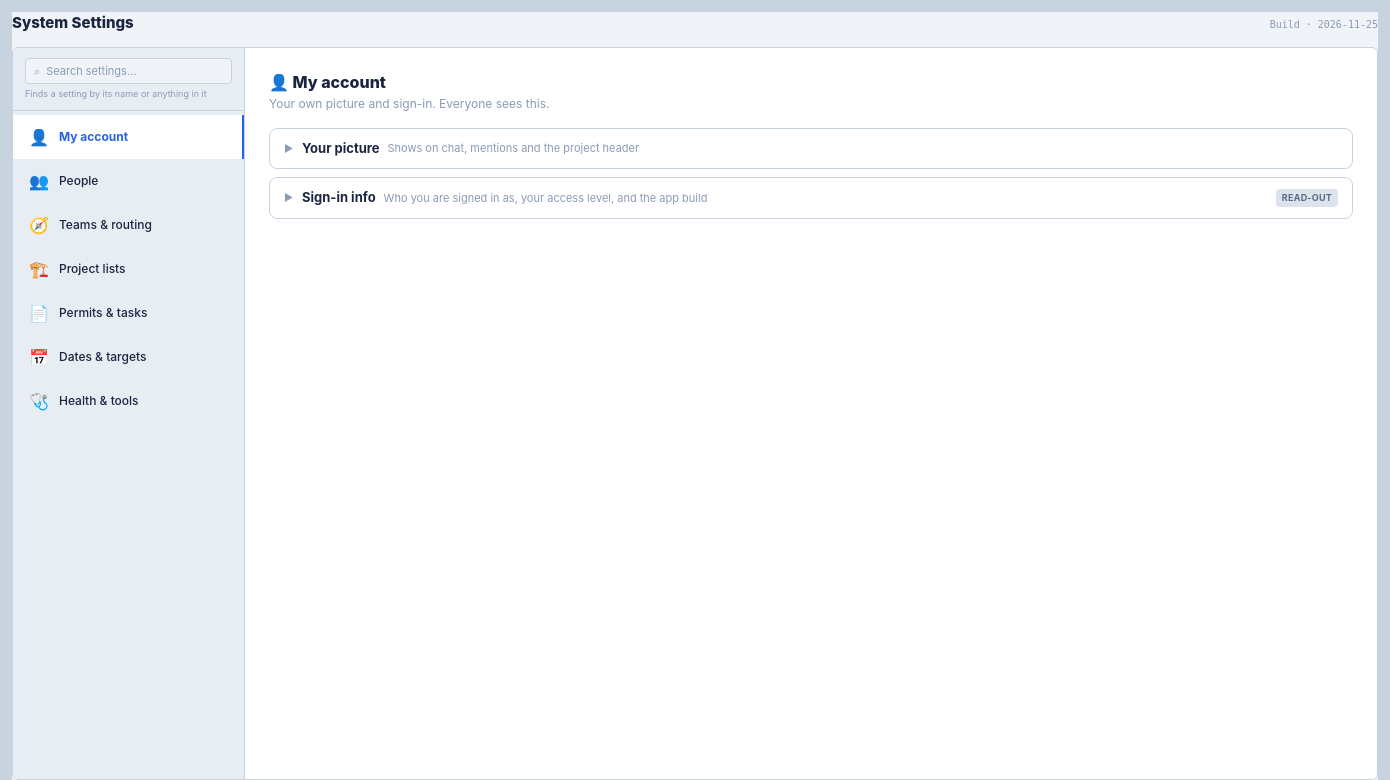
Test case: fix-611 §D — the search box, rendered › ★★★ typing a city replaces the pane with its block
Type "Kirkland" into the field with test id "settings-search" at coordinates (135, 71), box [46, 62, 223, 79]
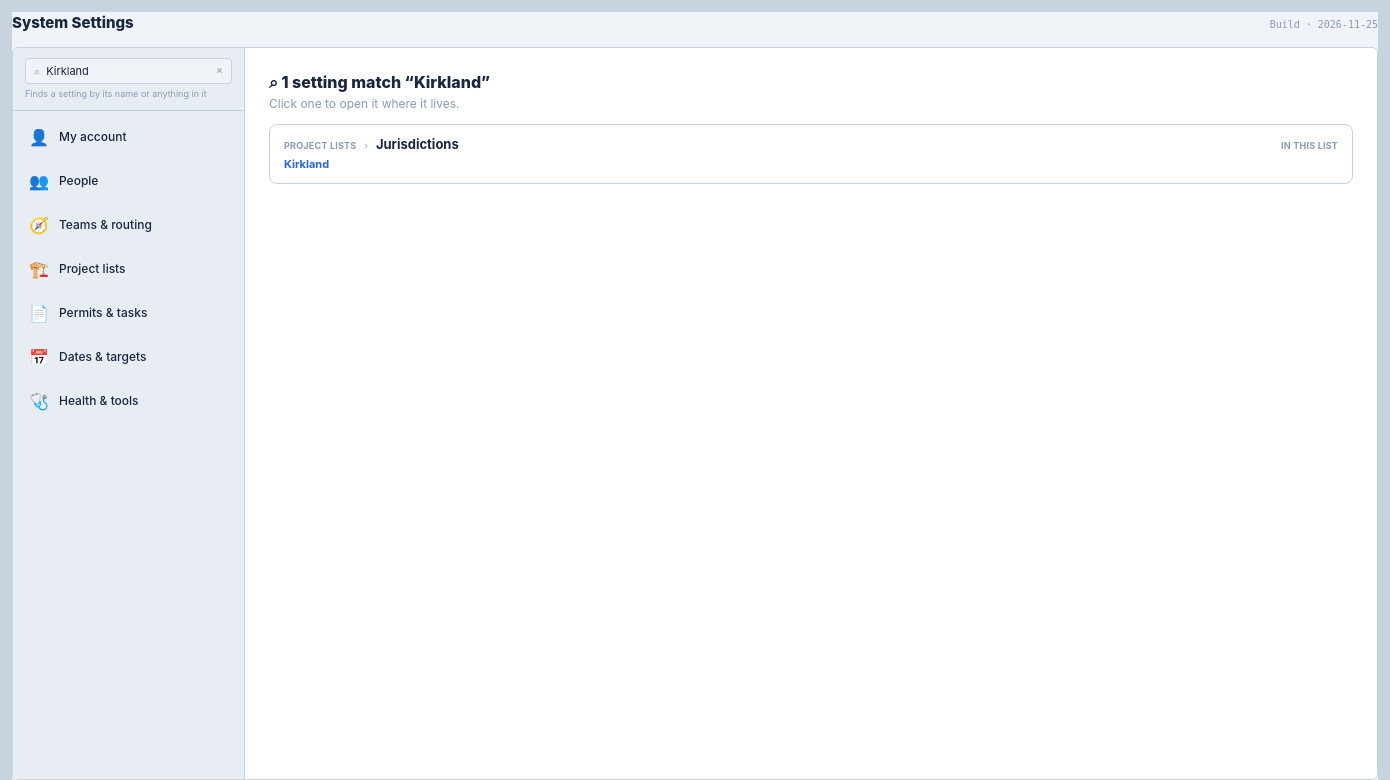
Result: the element with test id "settings-search-results" is shown at [269, 70, 1353, 184]
Result: the button with test id "settings-search-hit-jurisdictions" shows "Project lists" at [269, 124, 1353, 184]
Result: the text with test id "settings-search-mark-jurisdictions" reads "Kirkland" at [284, 157, 329, 171]
